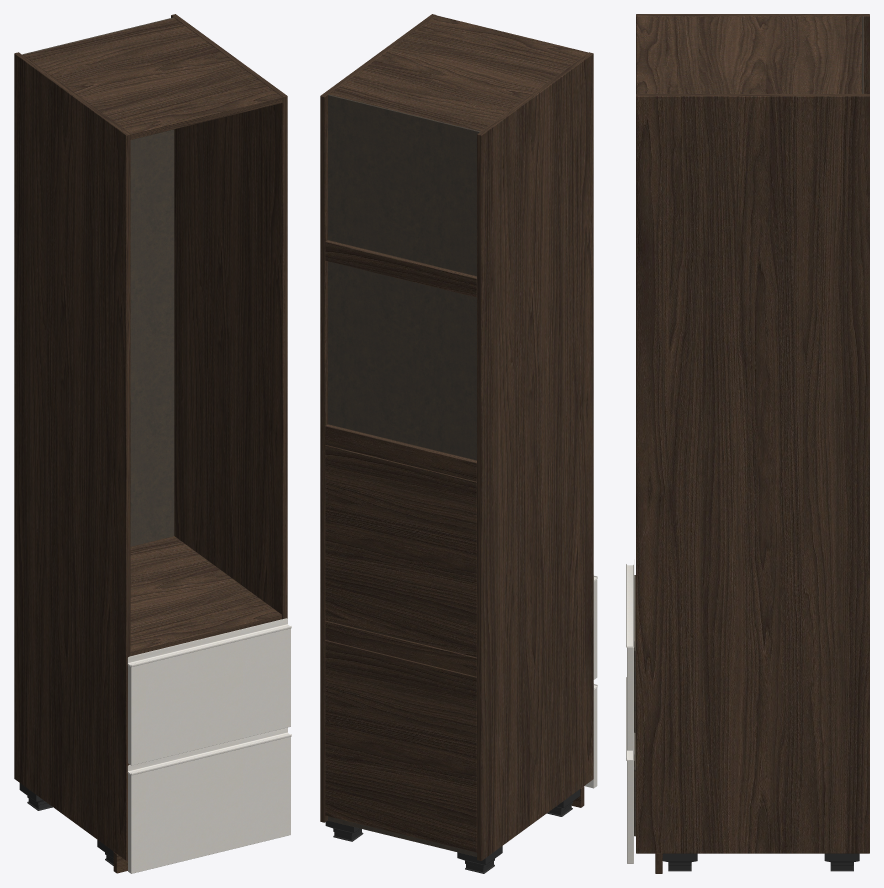
3 renders of one model, left to right at view 1: azimuth 30°, elevation 25°; view 2: azimuth 150°, elevation 25°; view 3: azimuth 270°, elevation 25°, orthographic. The views are drawn at different scales.
Visible parts, largest first — view 1: HK1001259; view 2: HK1001259; view 3: HK1001259.
Boxes of the visible parts, bbox=[...] form: HK1001259: bbox=[14, 14, 291, 873]; HK1001259: bbox=[320, 14, 597, 873]; HK1001259: bbox=[626, 14, 869, 873].
Size of the model in its own units: 0.5 by 2.2 by 0.6256.
8 materials, 7 textured.
